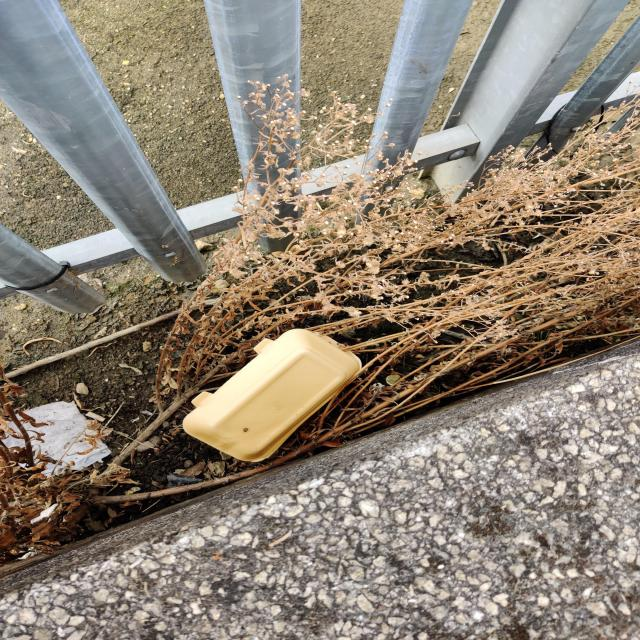litter: (175, 318, 364, 469), (12, 394, 105, 480)
